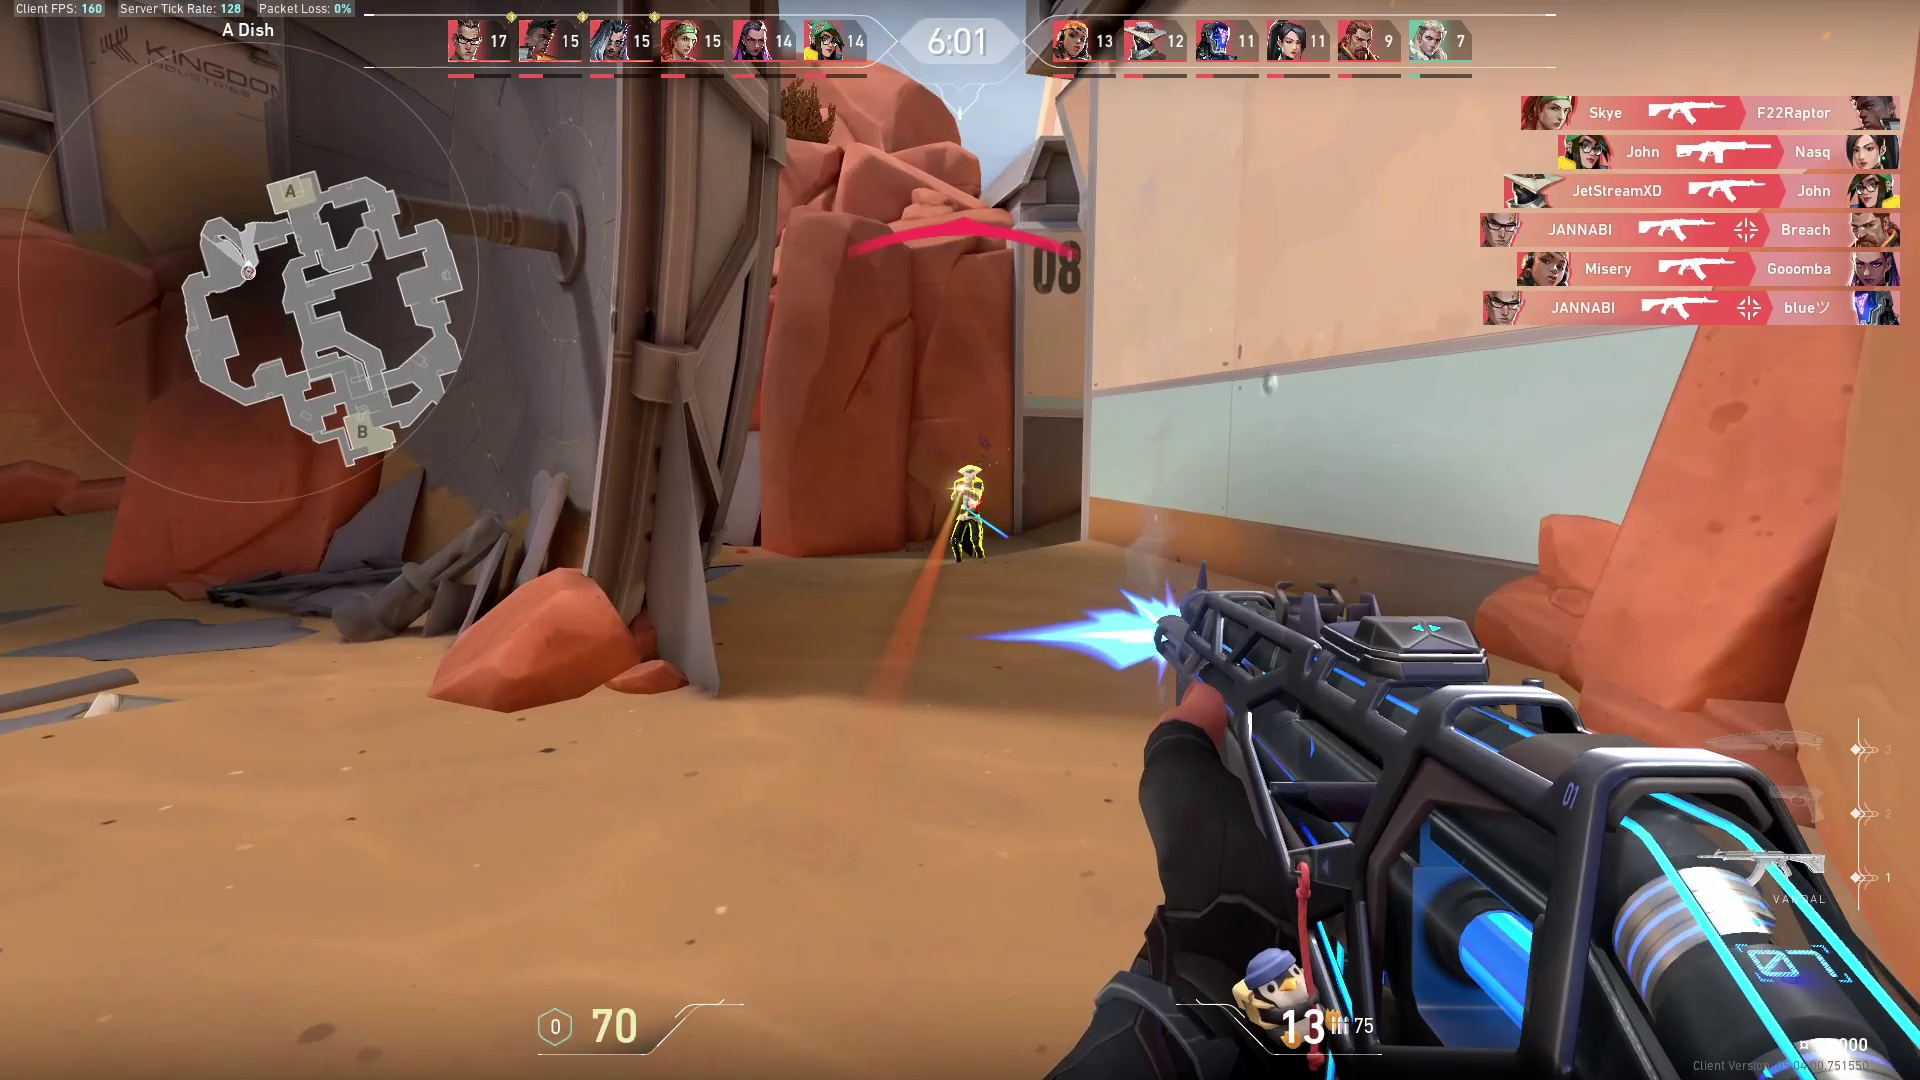enemy_body: (945, 479, 998, 565)
enemy_head: (958, 460, 983, 482)
